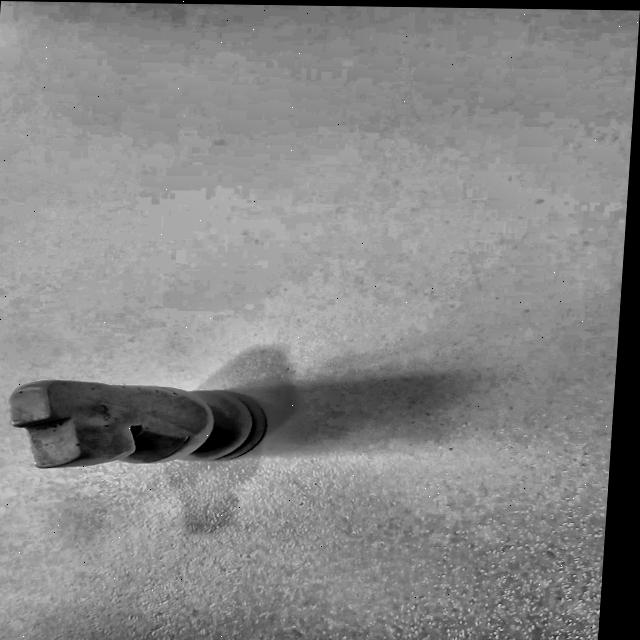white-knight: (0, 346, 281, 507)
